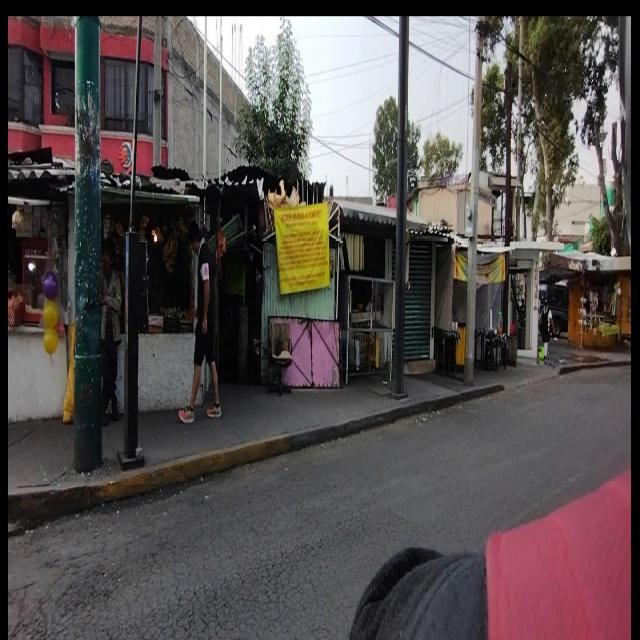adult: (179, 220, 222, 423), (101, 246, 121, 424), (540, 298, 554, 362)
